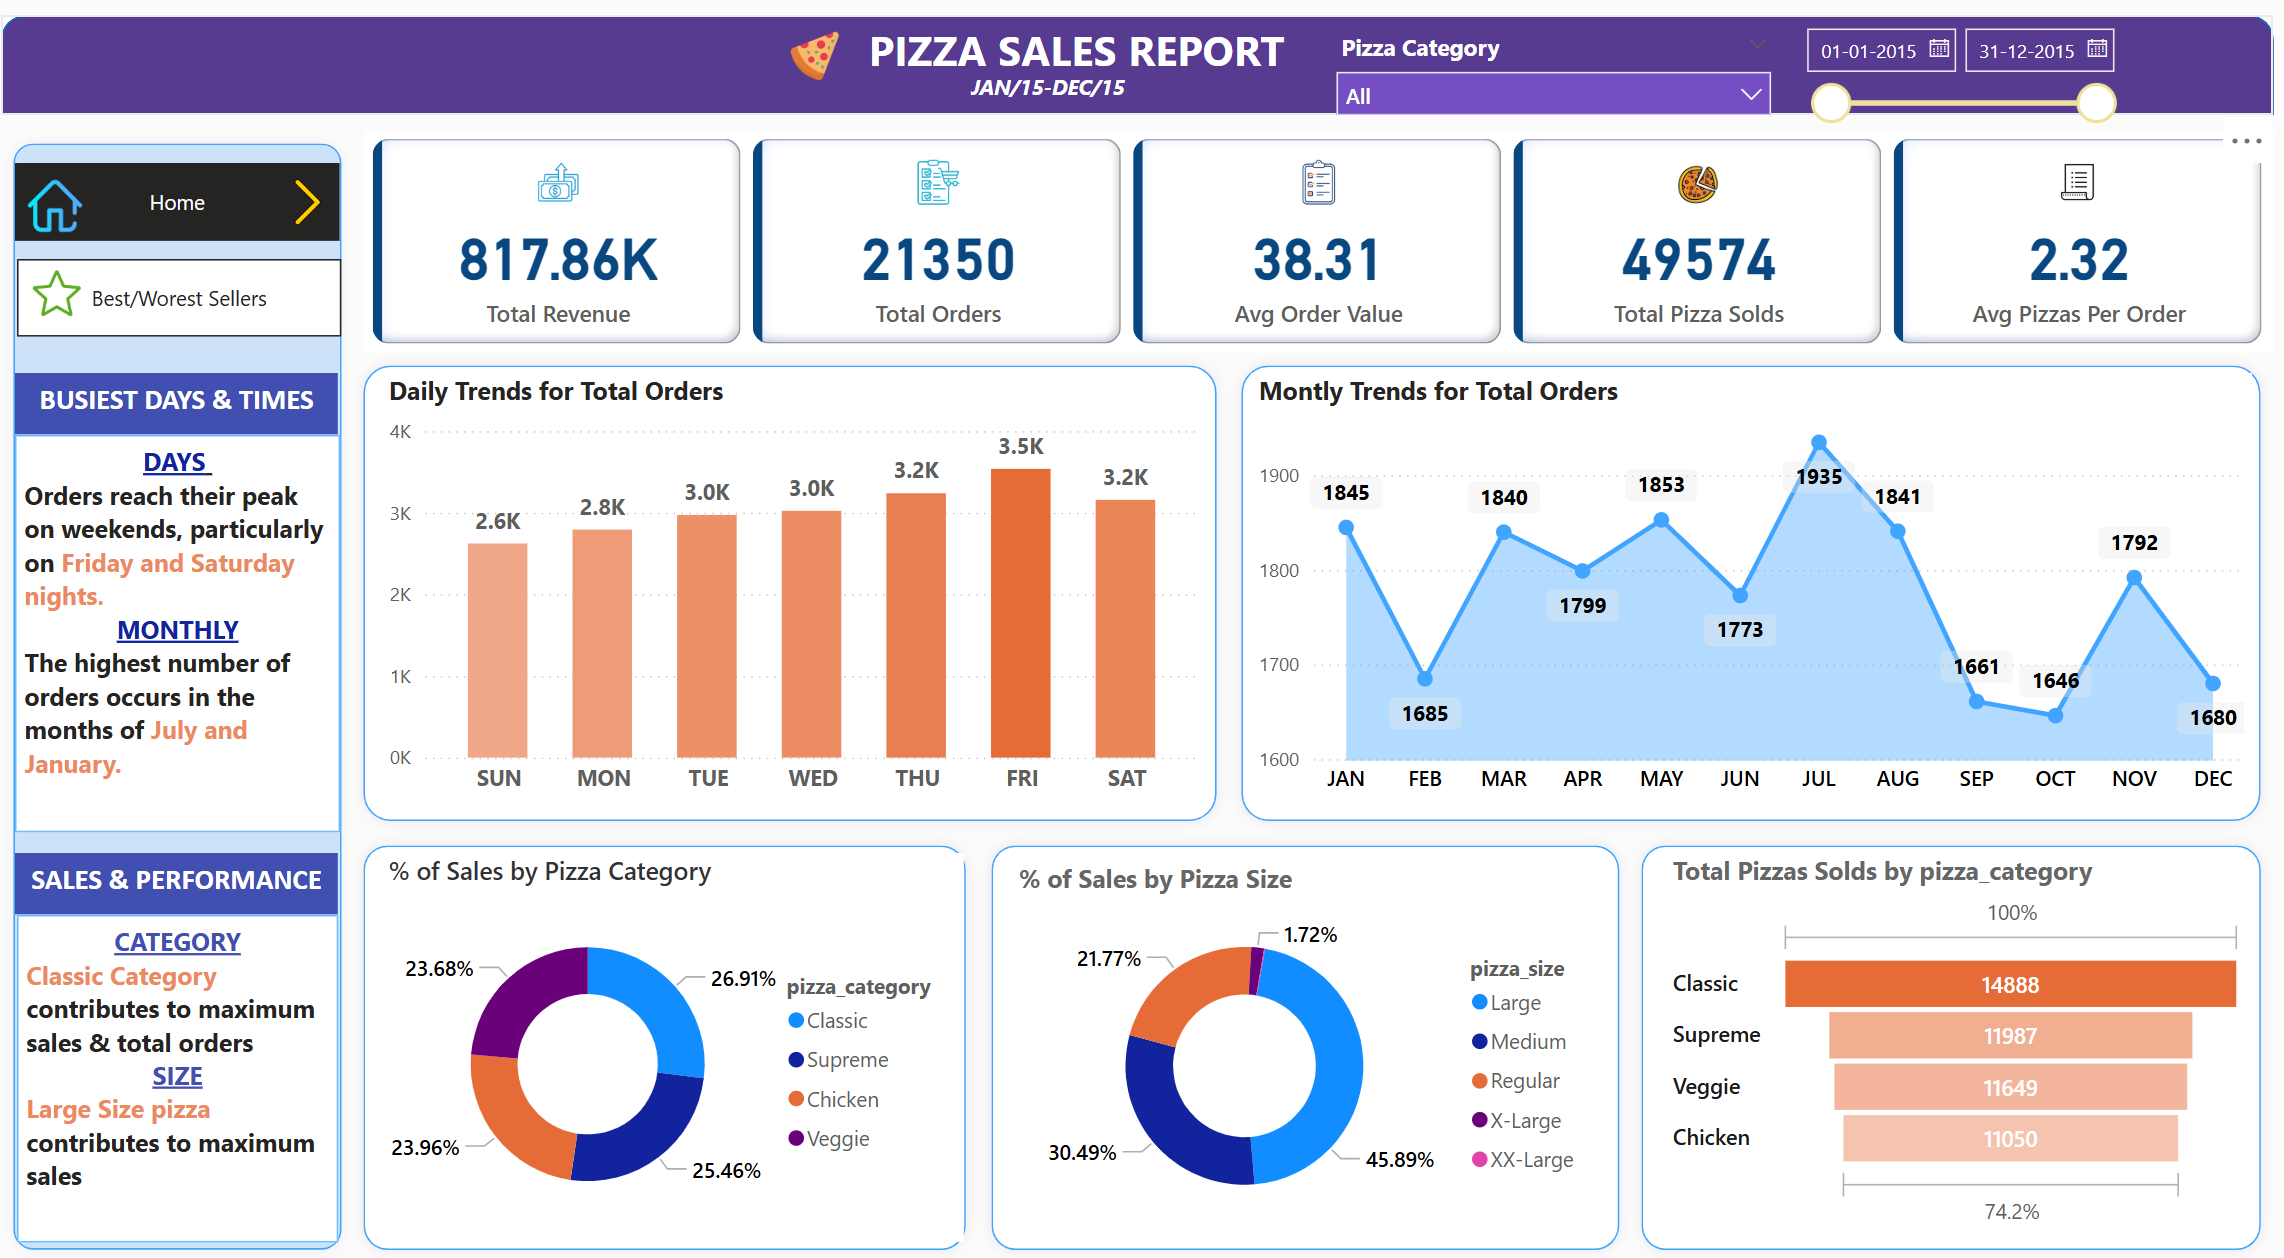

The dashboard page shown, as its layout file describes it:
{"tool":"powerbi","page":{"name":"Home","canvas":[1500,820],"ordinal":0},"visuals":[{"type":"cardVisual","fields":{"Data":["pizza_sales.Total Revenue","pizza_sales.Total Orders","pizza_sales.Avg Order Value","pizza_sales.Total Pizza Solds","pizza_sales.Avg Pizzas Per Order"]},"box":[252.1,87.7,1230.1,142.5],"z":0},{"type":"shape","box":[17.8,12.3,1464.4,64.4],"z":1000},{"type":"textbox","box":[572.6,11,328.8,54.8],"z":2000},{"type":"textbox","box":[638.4,45.2,171.2,42.5],"z":3000},{"type":"image","box":[511,17.8,61.6,42.5],"z":4000},{"type":"shape","box":[243.8,230.1,565.8,309.6],"z":5000},{"type":"columnChart","title":"Daily Trends for Total Orders","fields":{"Category":["pizza_sales.Order day"],"Y":["pizza_sales.Total Orders"]},"box":[263,243.8,532.9,280.8],"z":6000},{"type":"shape","box":[17.8,87.7,227.4,728.8],"z":7000},{"type":"shape","box":[809.6,230.1,672.6,309.6],"z":8000},{"type":"areaChart","title":"Montly Trends for Total Orders","fields":{"Category":["pizza_sales.Order Month"],"Y":["pizza_sales.Total Orders"]},"box":[823.3,243.8,645.2,280.8],"z":9000},{"type":"shape","box":[243.8,539.7,404.1,276.7],"z":10000},{"type":"shape","box":[647.9,539.7,420.5,276.7],"z":11000},{"type":"shape","box":[1067.1,539.7,415.1,276.7],"z":12000},{"type":"donutChart","title":"% of Sales by Pizza Category","fields":{"Category":["pizza_sales.pizza_category"],"Y":["pizza_sales.Total Revenue"]},"box":[263,553.4,375.3,250.7],"z":13000},{"type":"donutChart","title":"% of Sales by Pizza Size","fields":{"Y":["pizza_sales.Total Revenue"],"Category":["pizza_sales.pizza_size"]},"box":[668.5,557.5,380.8,242.5],"z":14000},{"type":"textbox","box":[27.4,243.8,208.2,39.7],"z":15000},{"type":"funnel","title":"Total Pizzas Solds by pizza_category","fields":{"Category":["pizza_sales.pizza_category"],"Y":["pizza_sales.Total Pizza Solds"]},"box":[1090.4,553.4,378.1,246.6],"z":16000},{"type":"textbox","box":[27.4,283.6,209.6,256.2],"z":17000},{"type":"textbox","box":[27.4,553.4,208.2,39.7],"z":18000},{"type":"textbox","box":[28.8,593.2,206.8,211],"z":19000},{"type":"slicer","fields":{"Values":["pizza_sales.order_date"]},"box":[1168.5,11,220.5,76.7],"z":20000},{"type":"slicer","fields":{"Values":["pizza_sales.pizza_category"]},"box":[868.5,17.8,300,58.9],"z":21000},{"type":"pageNavigator","box":[28.8,169.9,209.6,50.7],"z":21001},{"type":"pageNavigator","box":[27.4,108.2,209.6,50.7],"z":21002},{"type":"image","box":[195.9,108.2,39.7,50.7],"z":21003},{"type":"image","box":[28.8,113.7,49.3,45.2],"z":21004},{"type":"image","box":[32.9,169.9,41.1,43.8],"z":21005}]}

Visuals, with their boxes in screenshot pixels (x1, y1, x2, y2), scaled from the page's 1500x820 canvas onto the 2284x1258 screenshot:
cardVisual - pizza_sales.Total Revenue x pizza_sales.Total Orders: box(384, 135, 2257, 353)
shape: box(27, 19, 2257, 118)
textbox: box(872, 17, 1373, 101)
textbox: box(972, 69, 1233, 135)
image: box(778, 27, 872, 93)
shape: box(371, 353, 1233, 828)
"Daily Trends for Total Orders" columnChart: box(400, 374, 1212, 805)
shape: box(27, 135, 373, 1253)
shape: box(1233, 353, 2257, 828)
"Montly Trends for Total Orders" areaChart: box(1254, 374, 2236, 805)
shape: box(371, 828, 987, 1252)
shape: box(987, 828, 1627, 1252)
shape: box(1625, 828, 2257, 1252)
"% of Sales by Pizza Category" donutChart: box(400, 849, 972, 1234)
"% of Sales by Pizza Size" donutChart: box(1018, 855, 1598, 1227)
textbox: box(42, 374, 359, 435)
"Total Pizzas Solds by pizza_category" funnel: box(1660, 849, 2236, 1227)
textbox: box(42, 435, 361, 828)
textbox: box(42, 849, 359, 910)
textbox: box(44, 910, 359, 1234)
slicer - pizza_sales.order_date: box(1779, 17, 2115, 135)
slicer - pizza_sales.pizza_category: box(1322, 27, 1779, 118)
pageNavigator: box(44, 261, 363, 338)
pageNavigator: box(42, 166, 361, 244)
image: box(298, 166, 359, 244)
image: box(44, 174, 119, 244)
image: box(50, 261, 113, 328)
